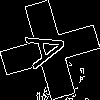A: (25, 25, 78, 71)
